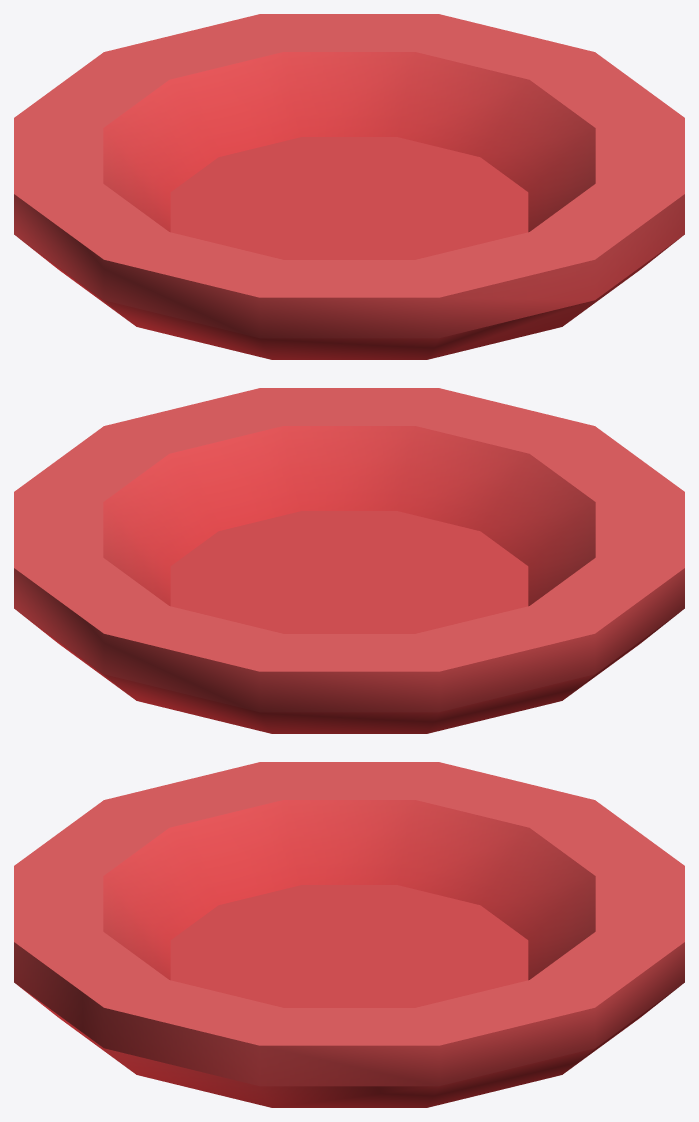
The model's file is plate_small_red.obj.
3 renders of one model, top to bottom at view 1: azimuth 30°, elevation 25°; view 2: azimuth 150°, elevation 25°; view 3: azimuth 270°, elevation 25°, orthographic.
Visible parts, largest first — view 1: plate_small_red; view 2: plate_small_red; view 3: plate_small_red.
Part boxes in pixels (bbox=[...]): plate_small_red: bbox=[14, 14, 684, 359]; plate_small_red: bbox=[14, 388, 684, 733]; plate_small_red: bbox=[14, 762, 684, 1107].
Size of the model in its own units: 0.75 by 0.1 by 0.75.
Materials: 1 (1 with a texture image).
